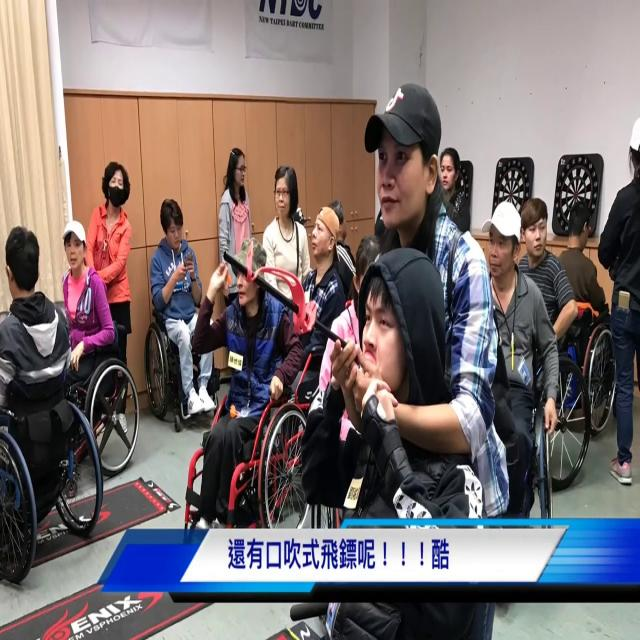wheelchairs: (156, 387, 321, 528), (0, 376, 101, 591), (64, 341, 152, 485), (140, 298, 222, 441)
